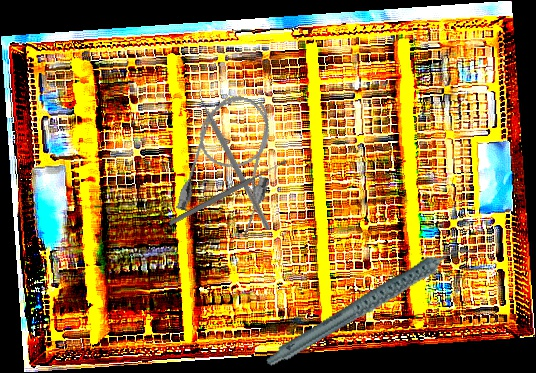Cannula: (173, 87, 290, 239)
Chopper: (155, 82, 317, 231)
Handpiece: (250, 242, 491, 370)
Surgical Spoon: (167, 157, 289, 228)
